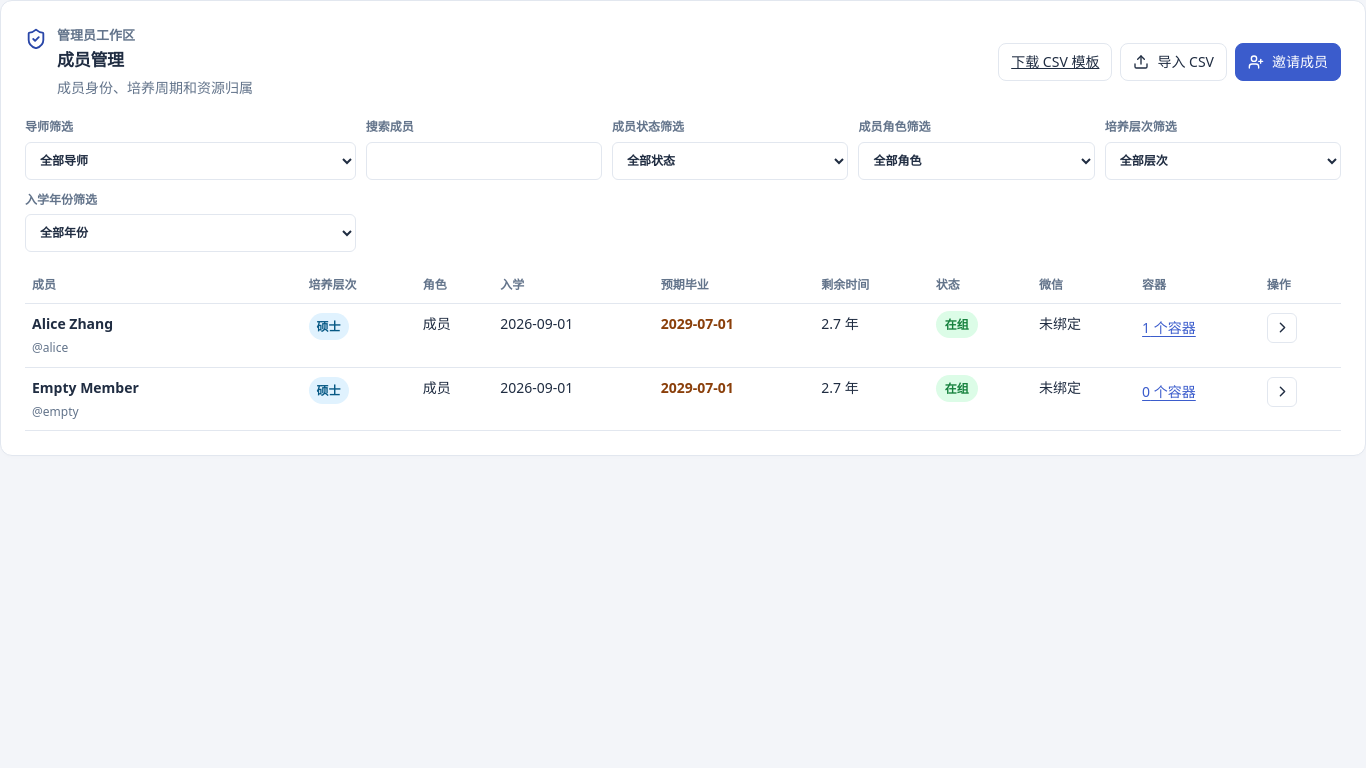
it: member details open an empty container view and a different member never inherits its rows
The image size is (1366, 768).
Click the button with aria-label "管理 Alice Zhang 的容器" at (1169, 328), box [1142,313,1196,343]
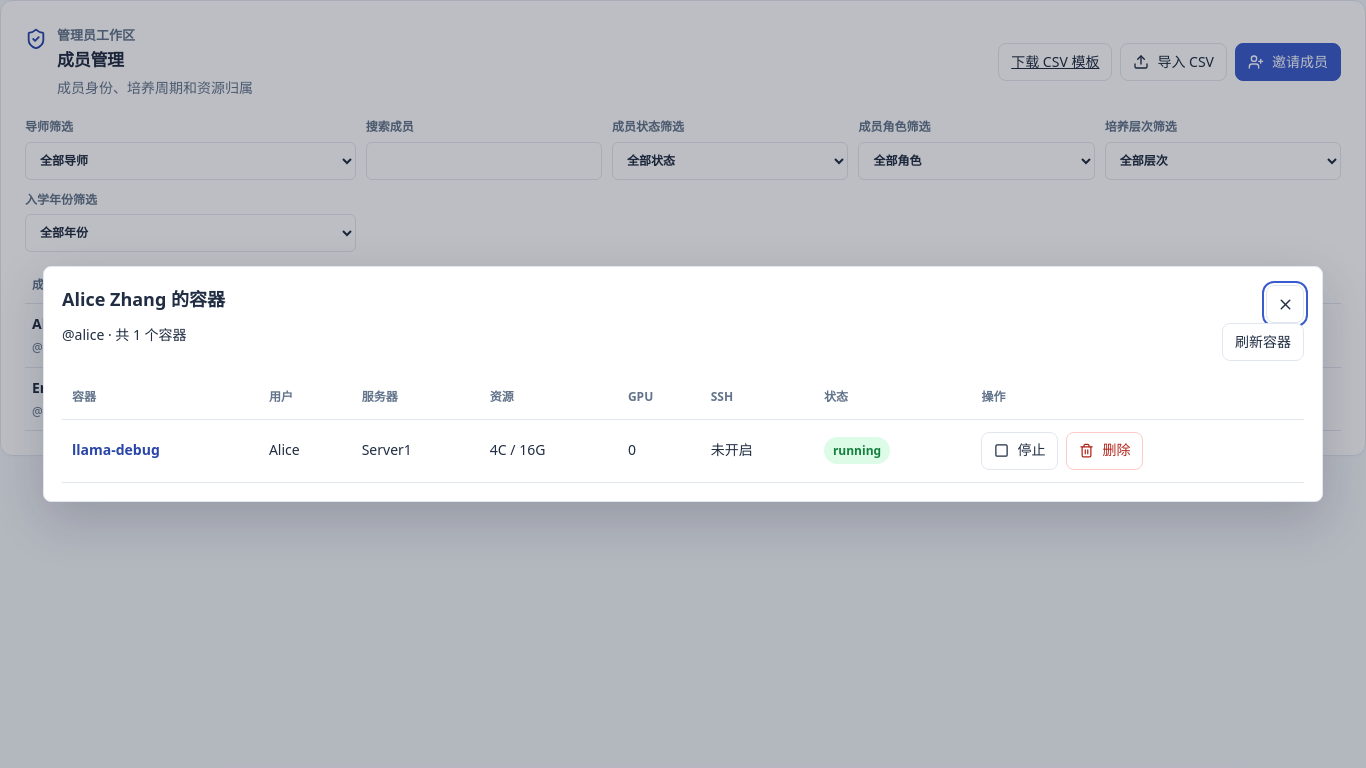
Click the button named "关闭Alice Zhang 的容器" at (1285, 304), box [1266,285,1304,323]
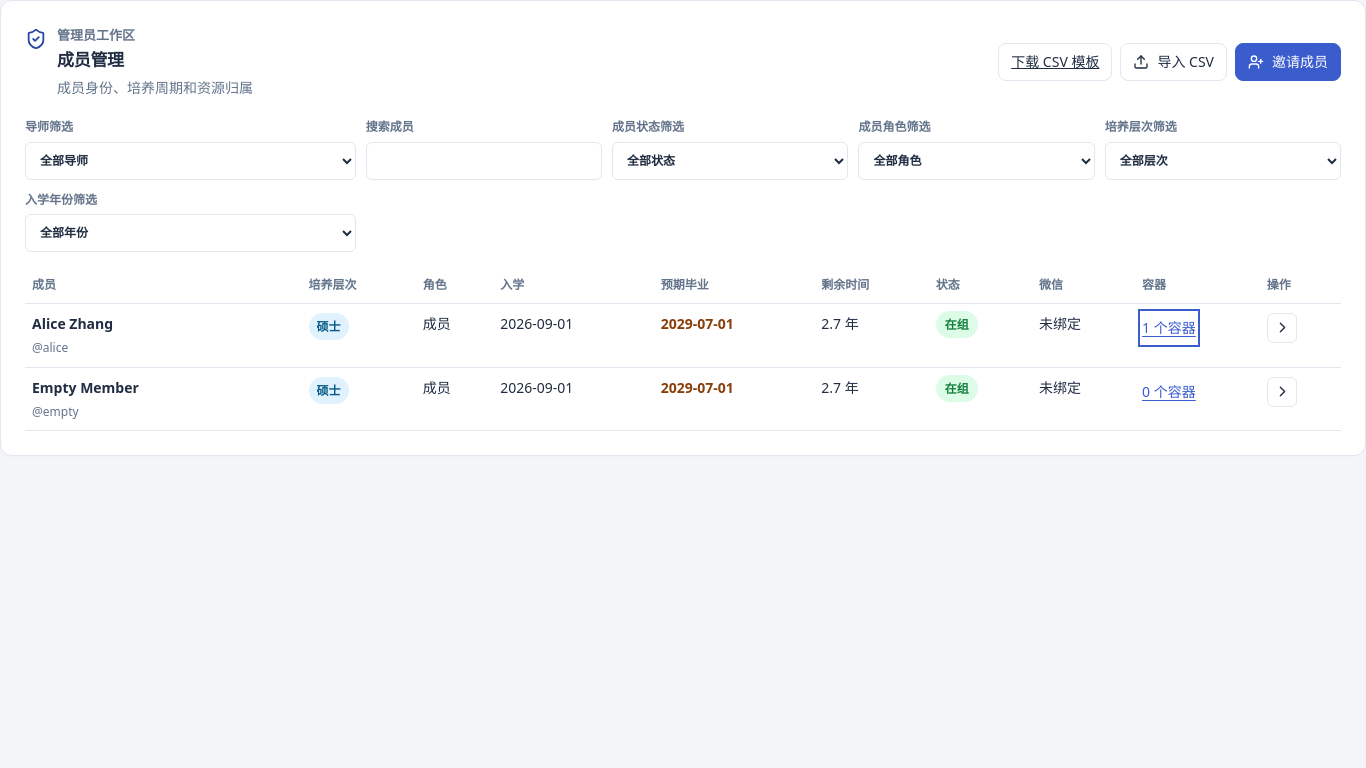
Click the button named "打开 Empty Member" at (1282, 392), box [1267,376,1297,406]
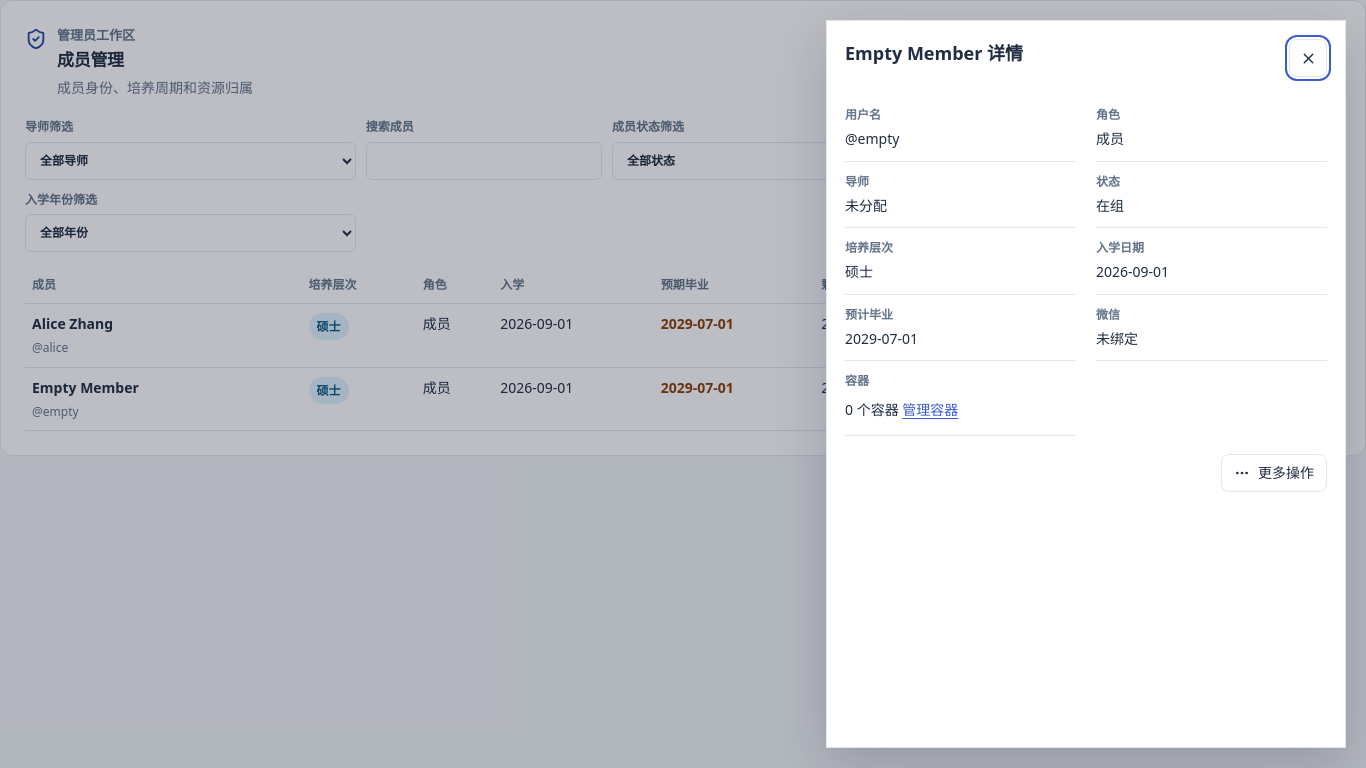
Click the button "管理容器" at (930, 410), box [902,394,958,425]
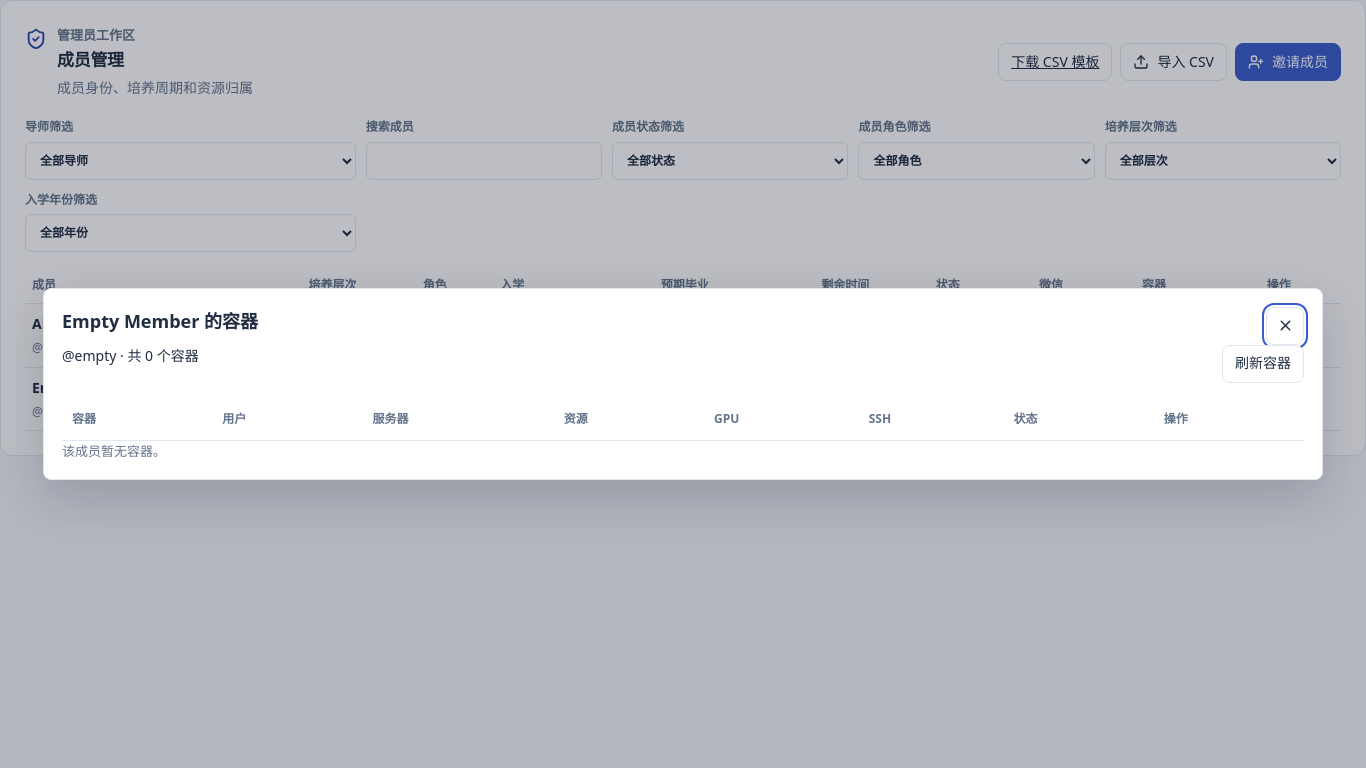
Now the heading "Empty Member 详情" is gone
Now the text "该成员暂无容器。" is shown, box [62,442,166,460]
